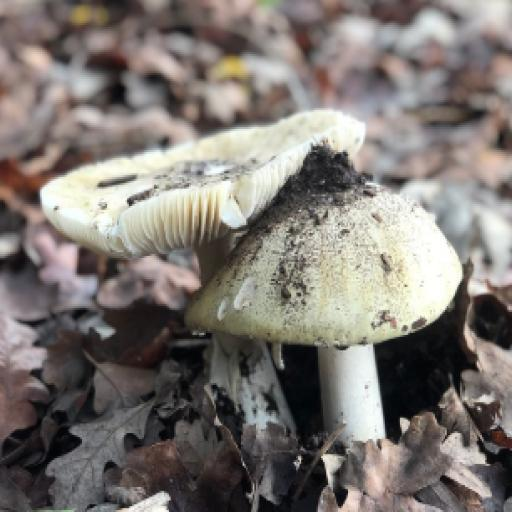mushroom: (179, 131, 507, 459), (34, 100, 382, 280)
